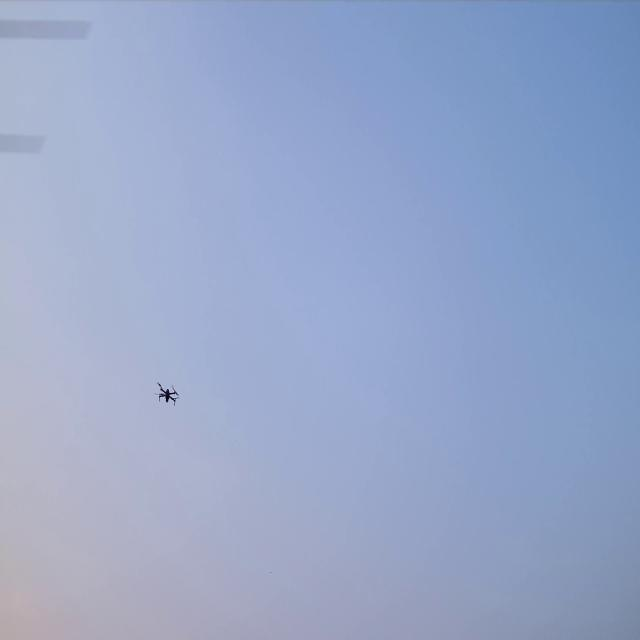UAV: (153, 381, 180, 406)
